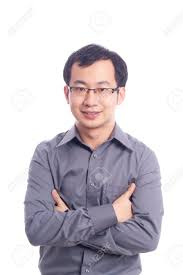asian_male: (55, 39, 124, 126)
